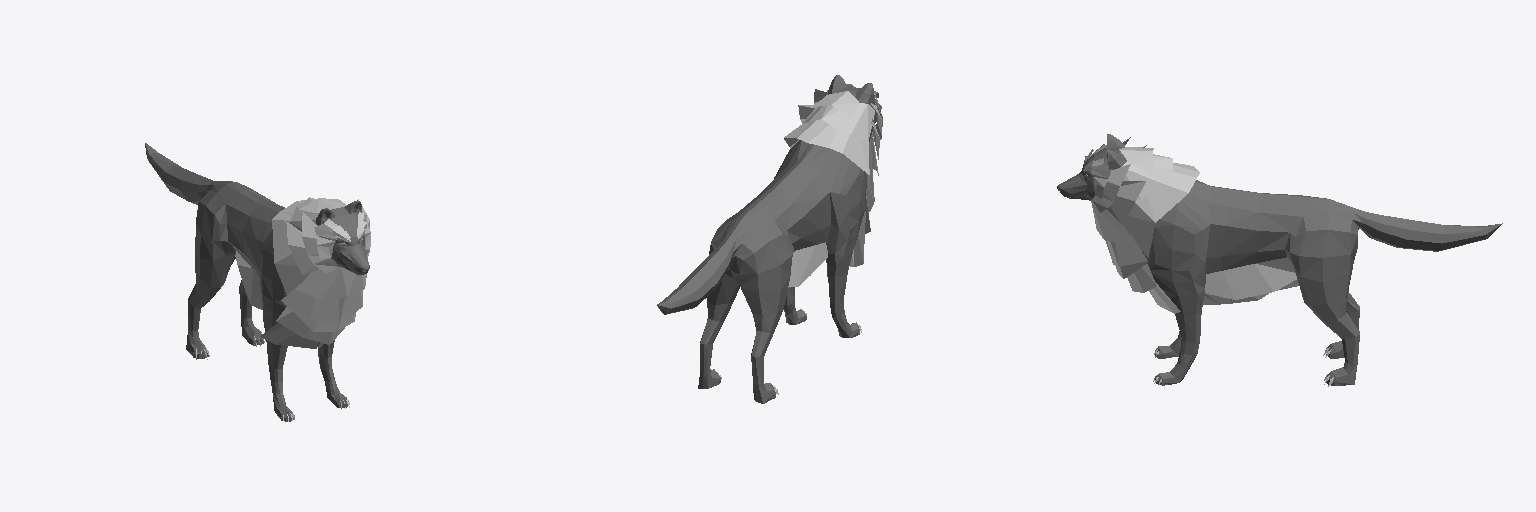
Rendered from Wolf.obj.
The picture shows the model from 3 angles: view 1: azimuth 30°, elevation 25°; view 2: azimuth 150°, elevation 25°; view 3: azimuth 270°, elevation 25°; orthographic projection.
Parts seen in each view (by area): view 1: Wolf_obj_body_Cube.001, Wolf_obj_fur_Cube.002; view 2: Wolf_obj_body_Cube.001, Wolf_obj_fur_Cube.002; view 3: Wolf_obj_body_Cube.001, Wolf_obj_fur_Cube.002.
Boxes of the visible parts, x1,y1,x2,y2 form: Wolf_obj_body_Cube.001: [145, 143, 369, 421]; Wolf_obj_fur_Cube.002: [235, 197, 370, 348]; Wolf_obj_body_Cube.001: [657, 75, 881, 403]; Wolf_obj_fur_Cube.002: [784, 84, 882, 288]; Wolf_obj_body_Cube.001: [1057, 134, 1502, 386]; Wolf_obj_fur_Cube.002: [1083, 137, 1298, 313].
Size of the model in its own units: 0.244 by 0.5776 by 1.02.